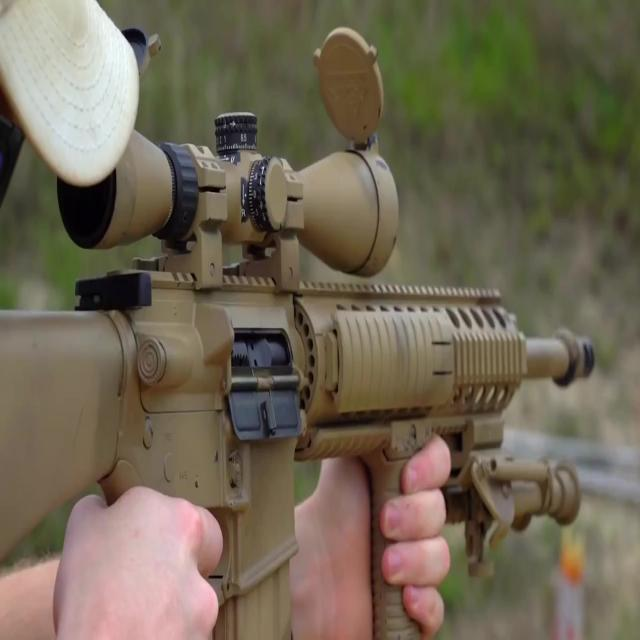Weapon: (1, 57, 600, 640)
